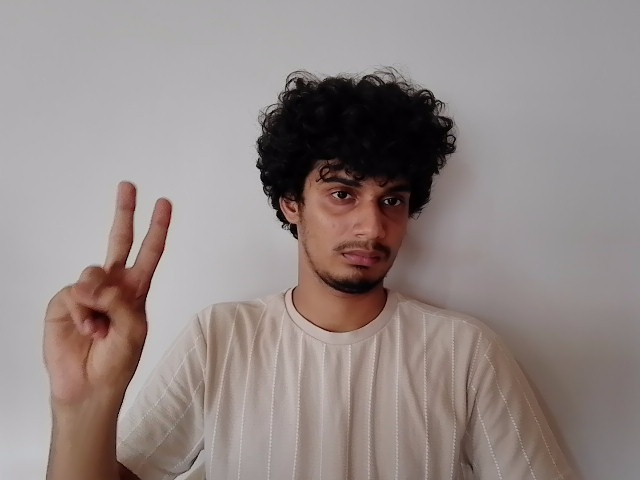travel: (40, 180, 175, 404)
